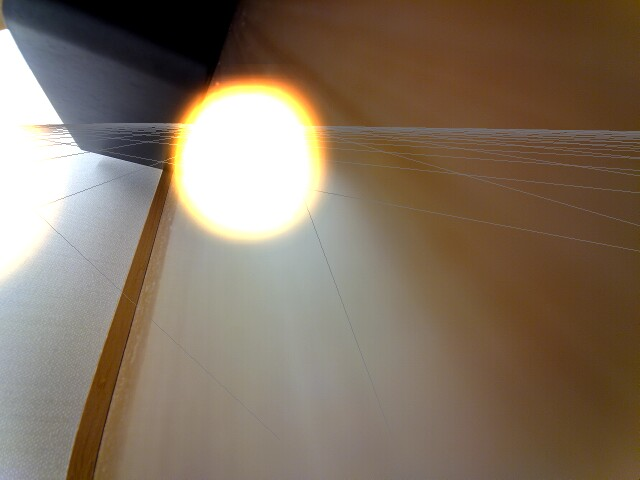firebig: (161, 82, 339, 253)
